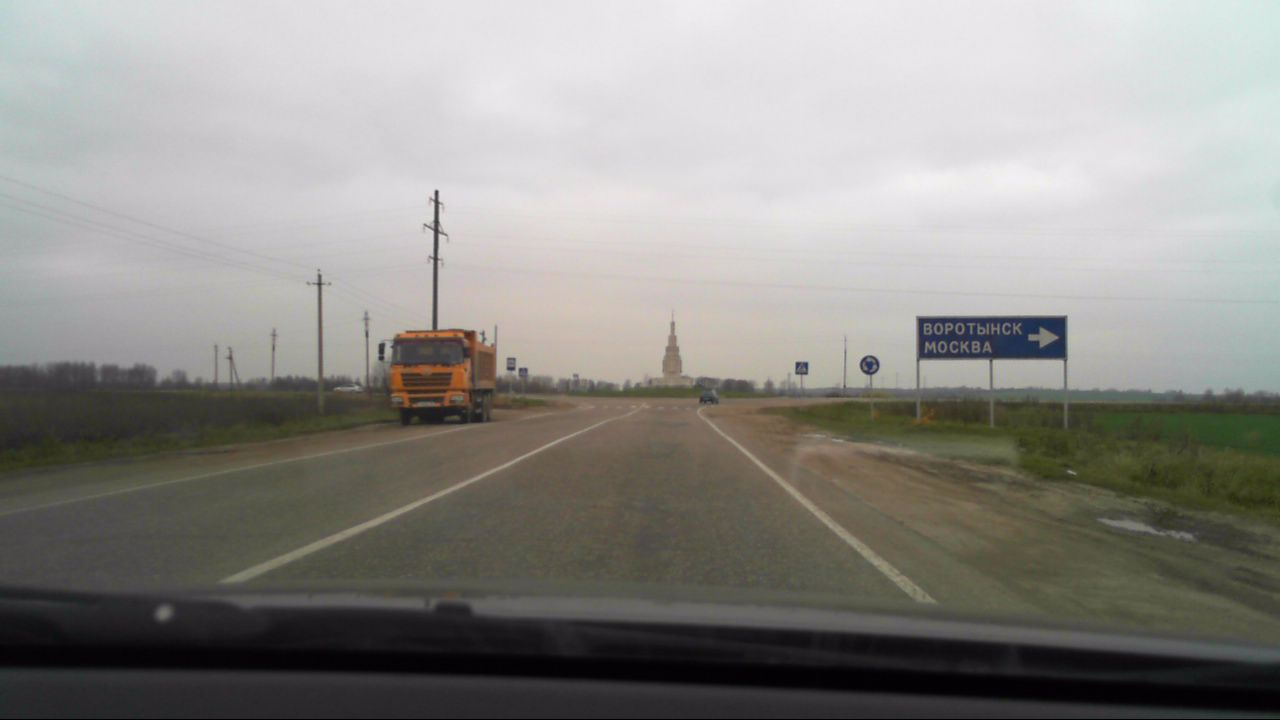Round-About: (860, 355, 879, 375)
